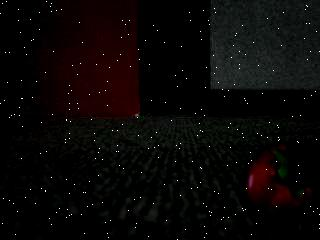Tomato: (237, 134, 320, 227)
